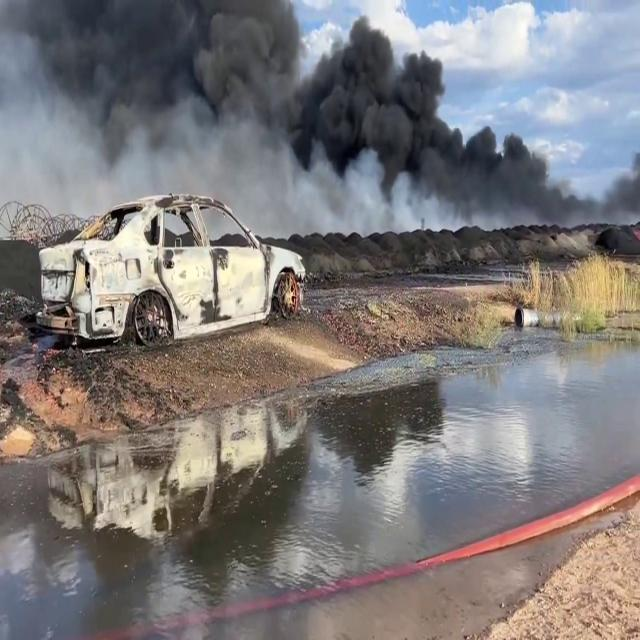Smoke: (0, 0, 630, 252), (439, 109, 640, 271)
